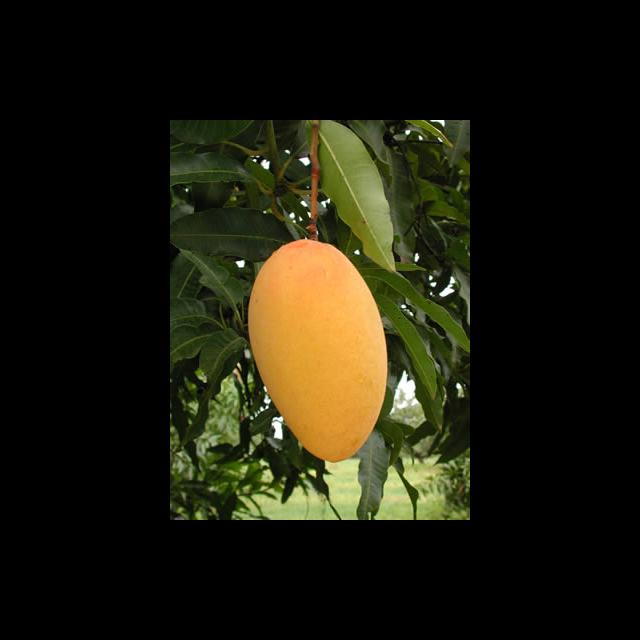mango: (248, 240, 388, 462)
